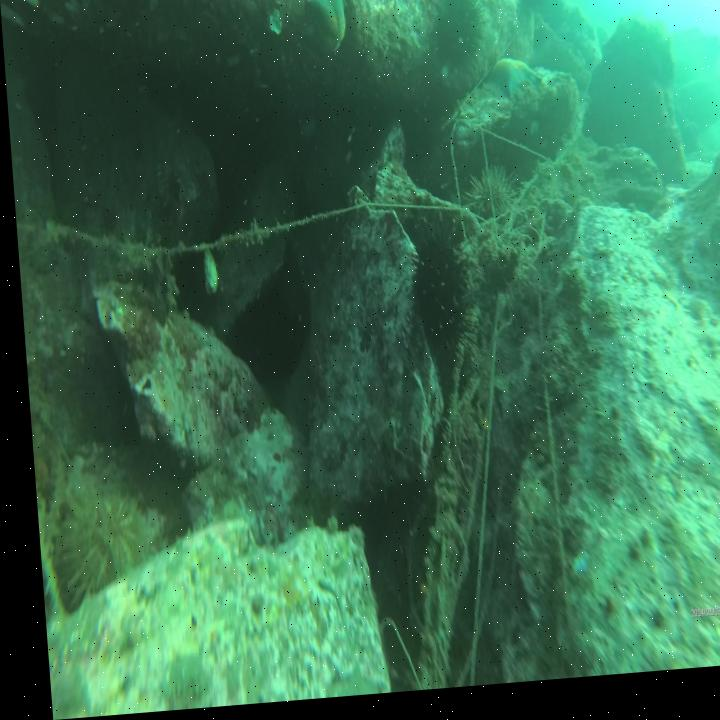echinus: (49, 477, 141, 601), (407, 249, 468, 358), (426, 0, 485, 81), (460, 174, 515, 240), (514, 0, 552, 22)
starfish: (305, 0, 349, 65)
